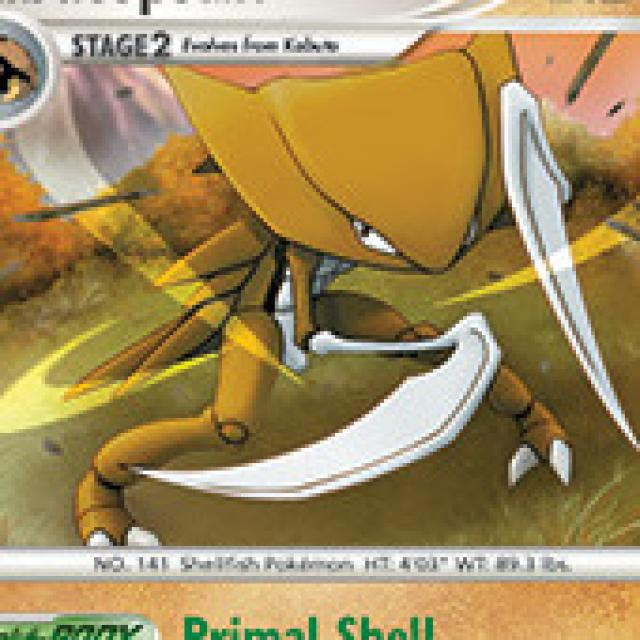Kabutops: (119, 54, 576, 486)
